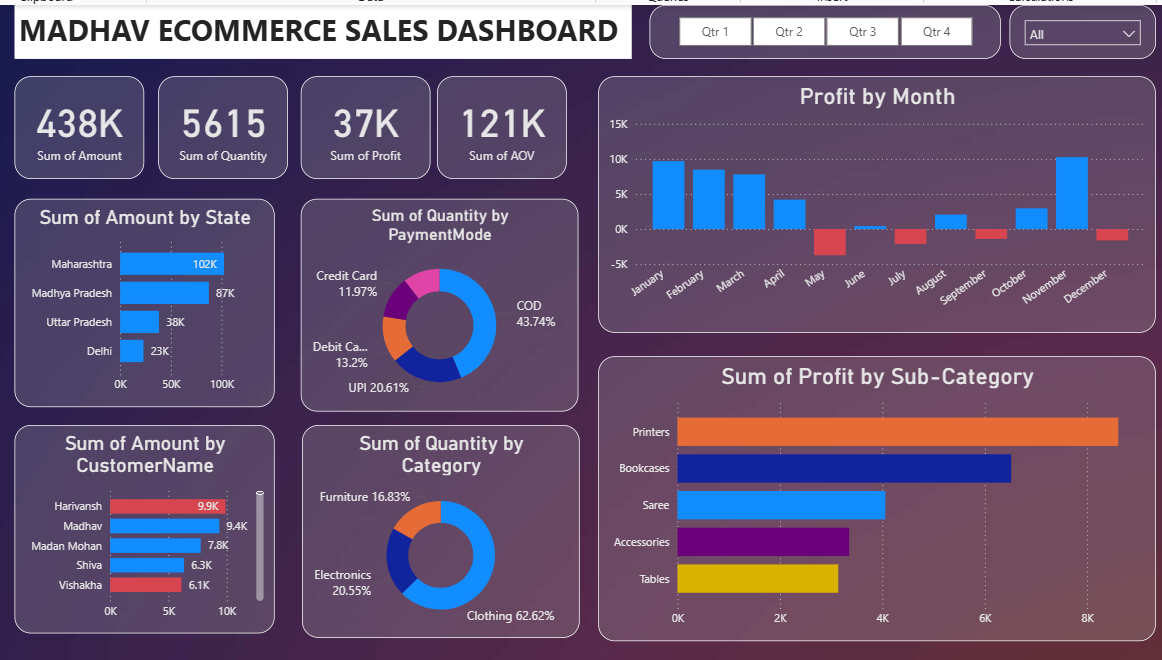

This screenshot's page, from the dashboard's own definition file:
{"tool":"powerbi","page":{"name":"Page 1","canvas":[1280,720],"ordinal":0},"visuals":[{"type":"textbox","box":[19.2,0,677.9,59],"z":0},{"type":"columnChart","title":"Profit by Month","fields":{"Category":["Orders.Order Date.Variation.Date Hierarchy.Month"],"Y":["Details.Profit"]},"box":[660,78.2,612,281.3],"z":1000},{"type":"barChart","fields":{"Category":["Details.Sub-Category"],"Y":["Details.Profit"]},"box":[660,385.6,612,312.9],"z":2000},{"type":"donutChart","fields":{"Category":["Details.Category"],"Y":["Details.Quantity"]},"box":[334.8,461.1,304.6,233.3],"z":3000},{"type":"donutChart","fields":{"Category":["Details.PaymentMode"],"Y":["Details.Quantity"]},"box":[333.4,212.7,304.6,233.3],"z":4000},{"type":"card","fields":{"Values":["Details.Amount"]},"box":[19.2,78.2,142.7,112.5],"z":5000},{"type":"card","fields":{"Values":["Details.Quantity"]},"box":[177,78.2,142.7,112.5],"z":6000},{"type":"card","fields":{"Values":["Details.Profit"]},"box":[333.4,78.2,142.7,112.5],"z":7000},{"type":"card","fields":{"Values":["Details.AOV"]},"box":[483,78.2,142.7,112.5],"z":8000},{"type":"barChart","fields":{"Category":["Orders.State"],"Y":["Details.Amount"]},"box":[19.2,212.7,285.4,229.2],"z":9000},{"type":"barChart","fields":{"Category":["Orders.CustomerName"],"Y":["Details.Amount"]},"box":[19.2,461.1,285.4,229.2],"z":10000},{"type":"slicer","fields":{"Values":["Orders.Order Date.Variation.Date Hierarchy.Quarter"]},"box":[716.3,0,385.6,59],"z":11000},{"type":"slicer","fields":{"Values":["Orders.State"]},"box":[1111.5,0,160.5,59],"z":12000}]}

Visuals, with their boxes in screenshot pixels (x1, y1, x2, y2), scaled from the page's 1280x720 canvas onto the 1162x660 screenshot:
textbox: (17, 0, 633, 54)
"Profit by Month" columnChart: (599, 72, 1155, 330)
barChart - Details.Sub-Category x Details.Profit: (599, 353, 1155, 640)
donutChart - Details.Category x Details.Quantity: (304, 423, 580, 637)
donutChart - Details.PaymentMode x Details.Quantity: (303, 195, 579, 409)
card - Details.Amount: (17, 72, 147, 175)
card - Details.Quantity: (161, 72, 290, 175)
card - Details.Profit: (303, 72, 432, 175)
card - Details.AOV: (438, 72, 568, 175)
barChart - Orders.State x Details.Amount: (17, 195, 277, 405)
barChart - Orders.CustomerName x Details.Amount: (17, 423, 277, 633)
slicer - Orders.Order Date.Variation.Date Hierarchy.Quarter: (650, 0, 1000, 54)
slicer - Orders.State: (1009, 0, 1155, 54)
